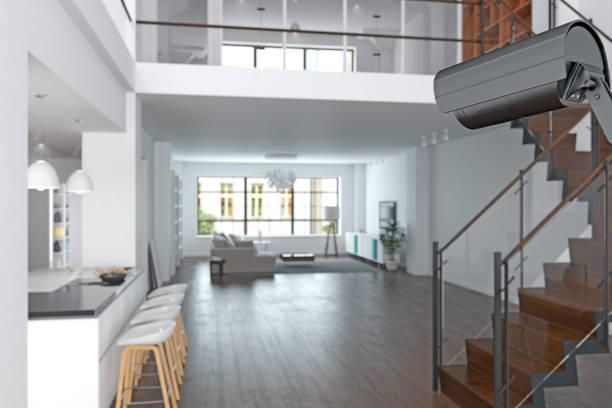camera: (416, 12, 612, 161)
